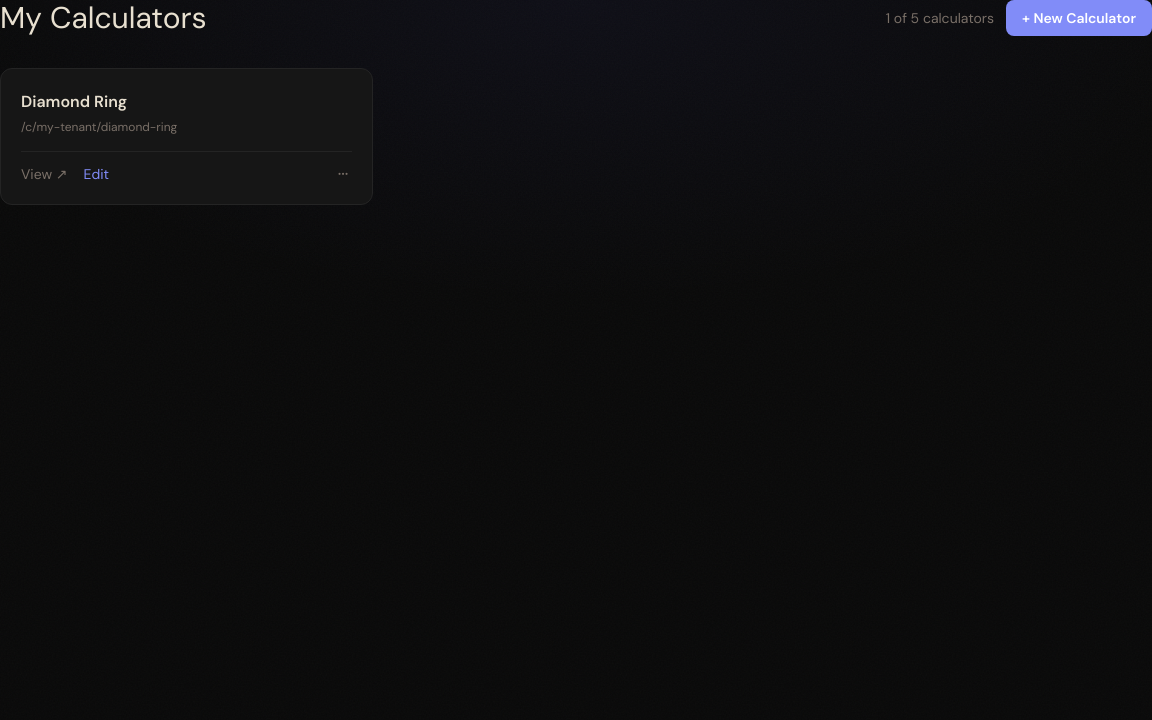
Dashboard › shows error in dialog when duplicate API fails
This screenshot has width=1152, height=720.
Click the button named "more actions": x=343, y=174 [334,165,352,183]
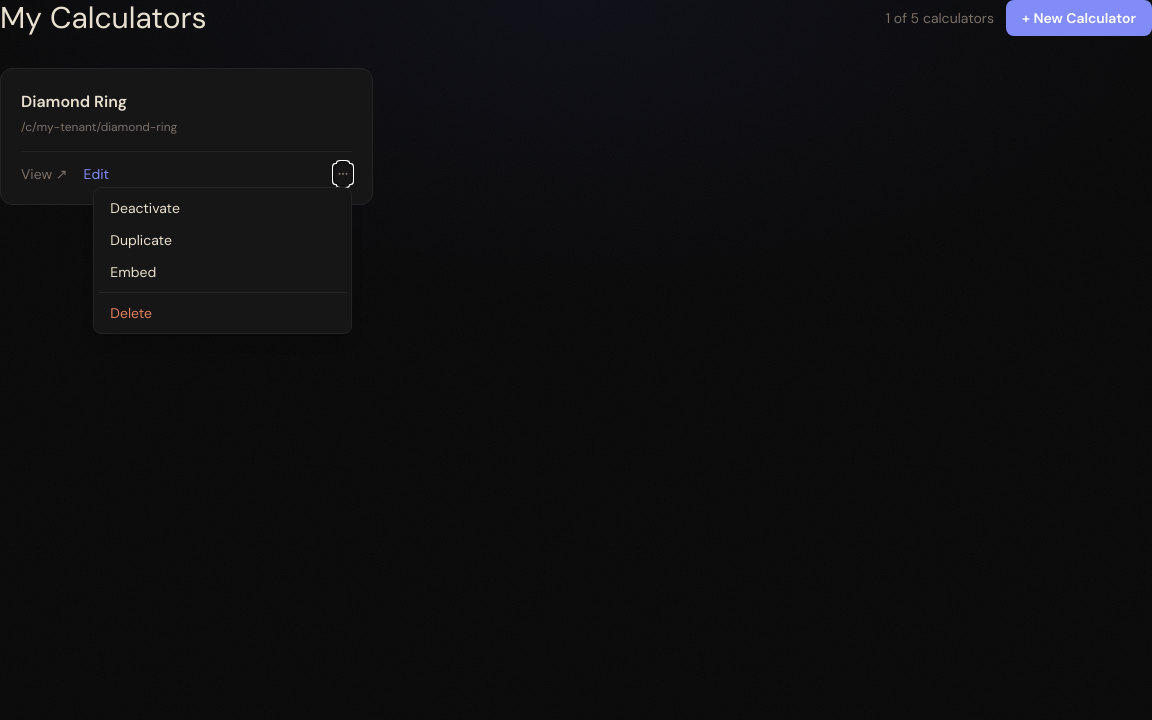
Click the button "Duplicate": x=223, y=240 [98,224,347,256]
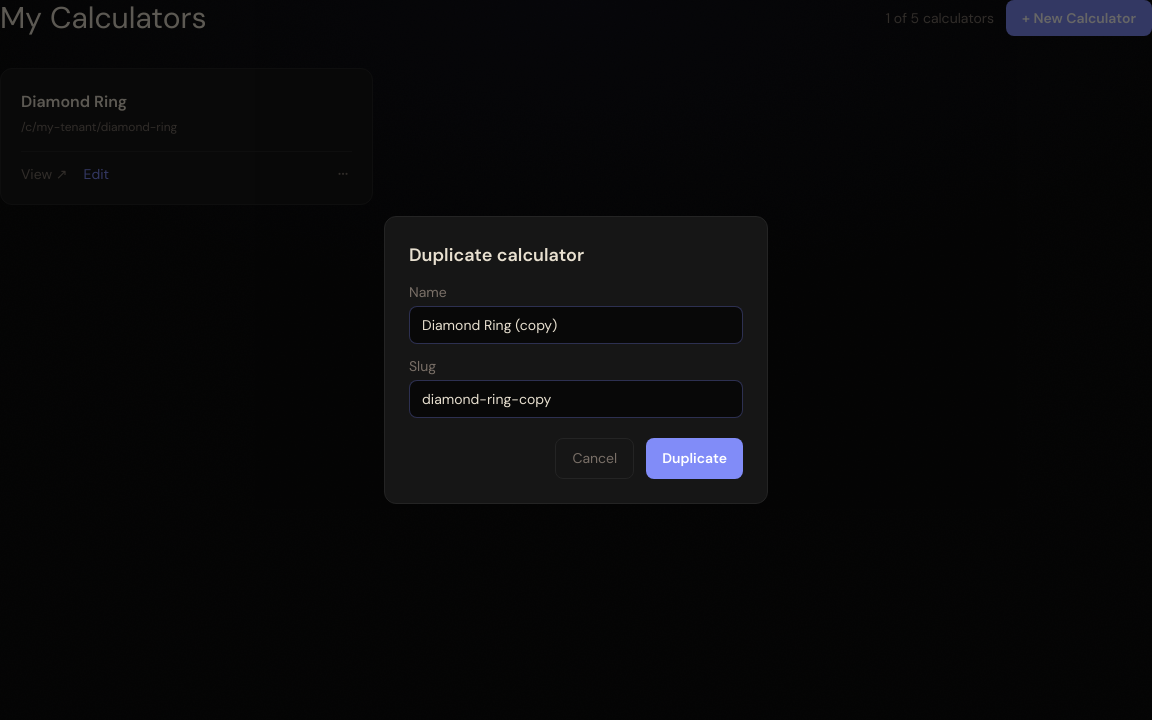
Click the button "Duplicate": x=695, y=458 [646,438,743,479]
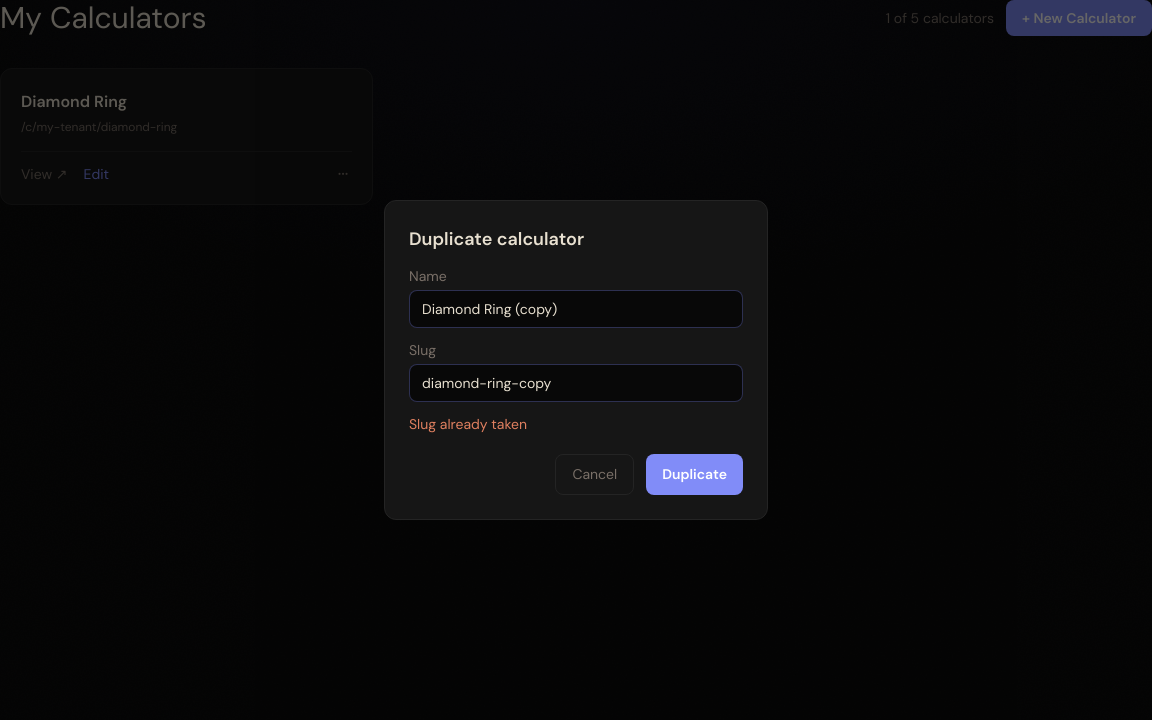
Expected: the text "Slug already taken" is shown, [409,415,527,433]
